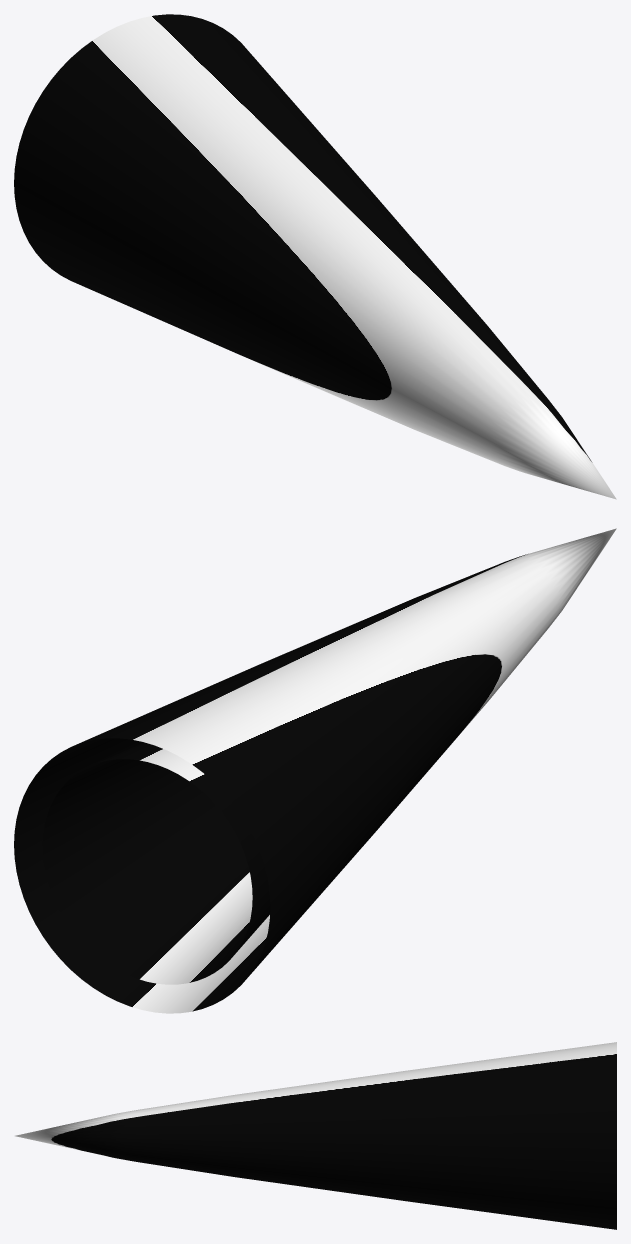
Rendered from Light.fbx.
The picture shows the model from 3 angles, top to bottom: view 1: azimuth 30°, elevation 25°; view 2: azimuth 150°, elevation 25°; view 3: azimuth 270°, elevation 25°; orthographic projection. The views are drawn at different scales.
Visible parts, largest first — view 1: Cone; view 2: Cone; view 3: Cone.
Boxes of the visible parts, x1,y1,x2,y2 form: Cone: (14, 14, 616, 499); Cone: (14, 528, 616, 1013); Cone: (15, 1042, 616, 1229).
Bounding box in the file's own units: 192 × 192 × 615.
